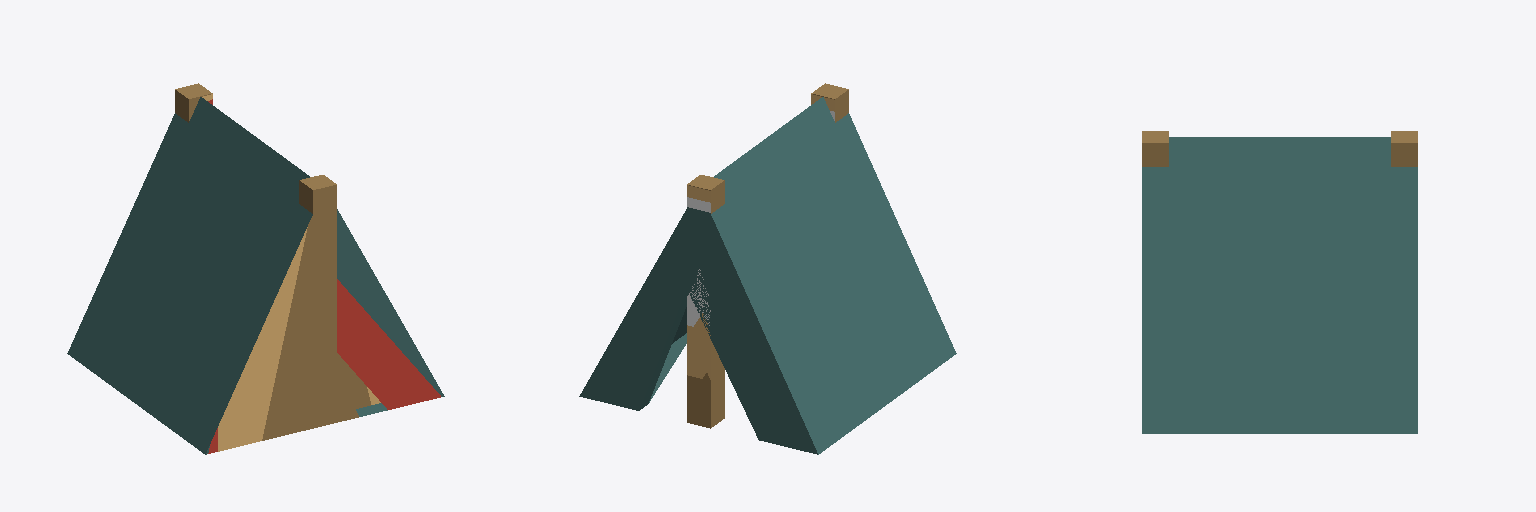
3 renders of one model, left to right at view 1: azimuth 30°, elevation 25°; view 2: azimuth 150°, elevation 25°; view 3: azimuth 270°, elevation 25°, orthographic.
Visible parts, largest first — view 1: Mesh1 Tent_Poles Model; view 2: Mesh1 Tent_Poles Model; view 3: Mesh1 Tent_Poles Model.
Boxes of the visible parts, <box> form: Mesh1 Tent_Poles Model: <box>67,83,444,454</box>; Mesh1 Tent_Poles Model: <box>579,83,956,454</box>; Mesh1 Tent_Poles Model: <box>1142,131,1417,433</box>.
Size of the model in its own units: 3 by 2.85 by 3.
Materials: 1 (1 with a texture image).